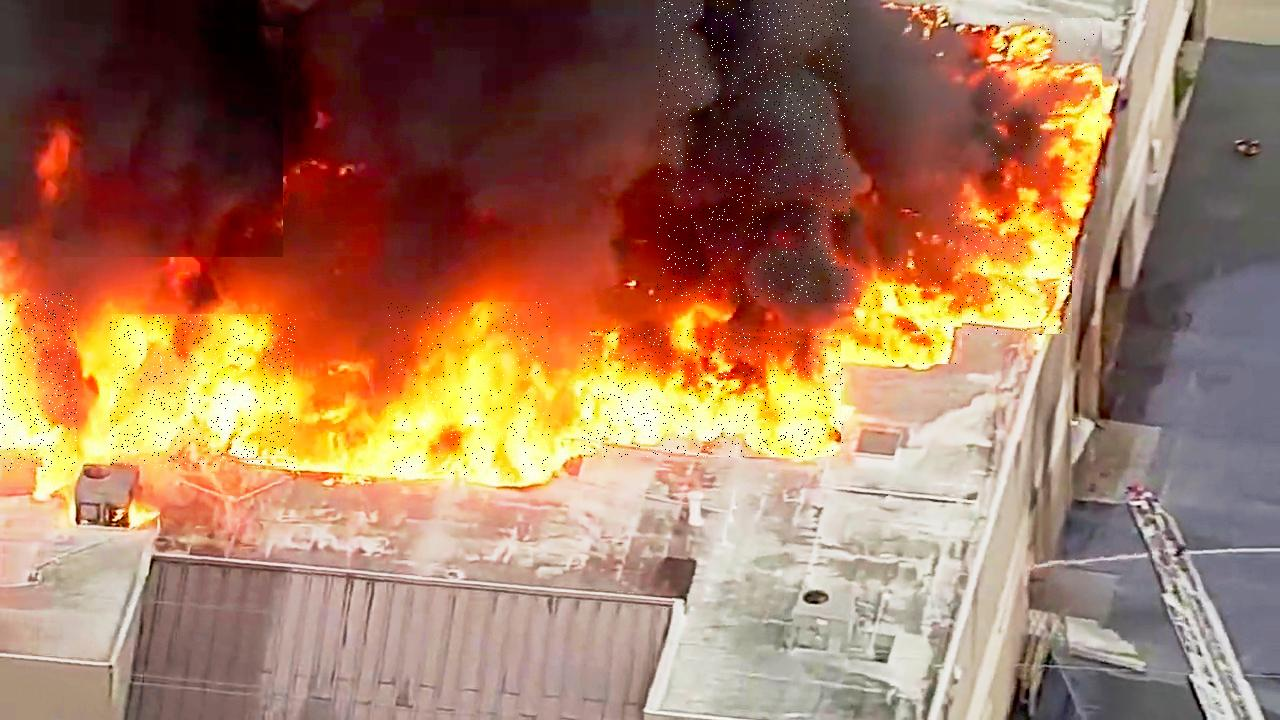fire: (582, 328, 844, 457), (110, 315, 297, 469), (387, 302, 550, 475), (987, 19, 1105, 187), (949, 202, 1075, 335), (0, 294, 77, 472), (835, 257, 962, 364)
smoke: (0, 0, 283, 257), (656, 0, 850, 303)
